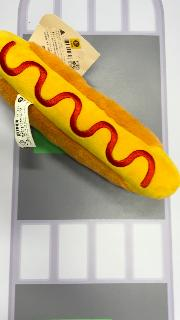hotdog: (1, 30, 179, 200)
